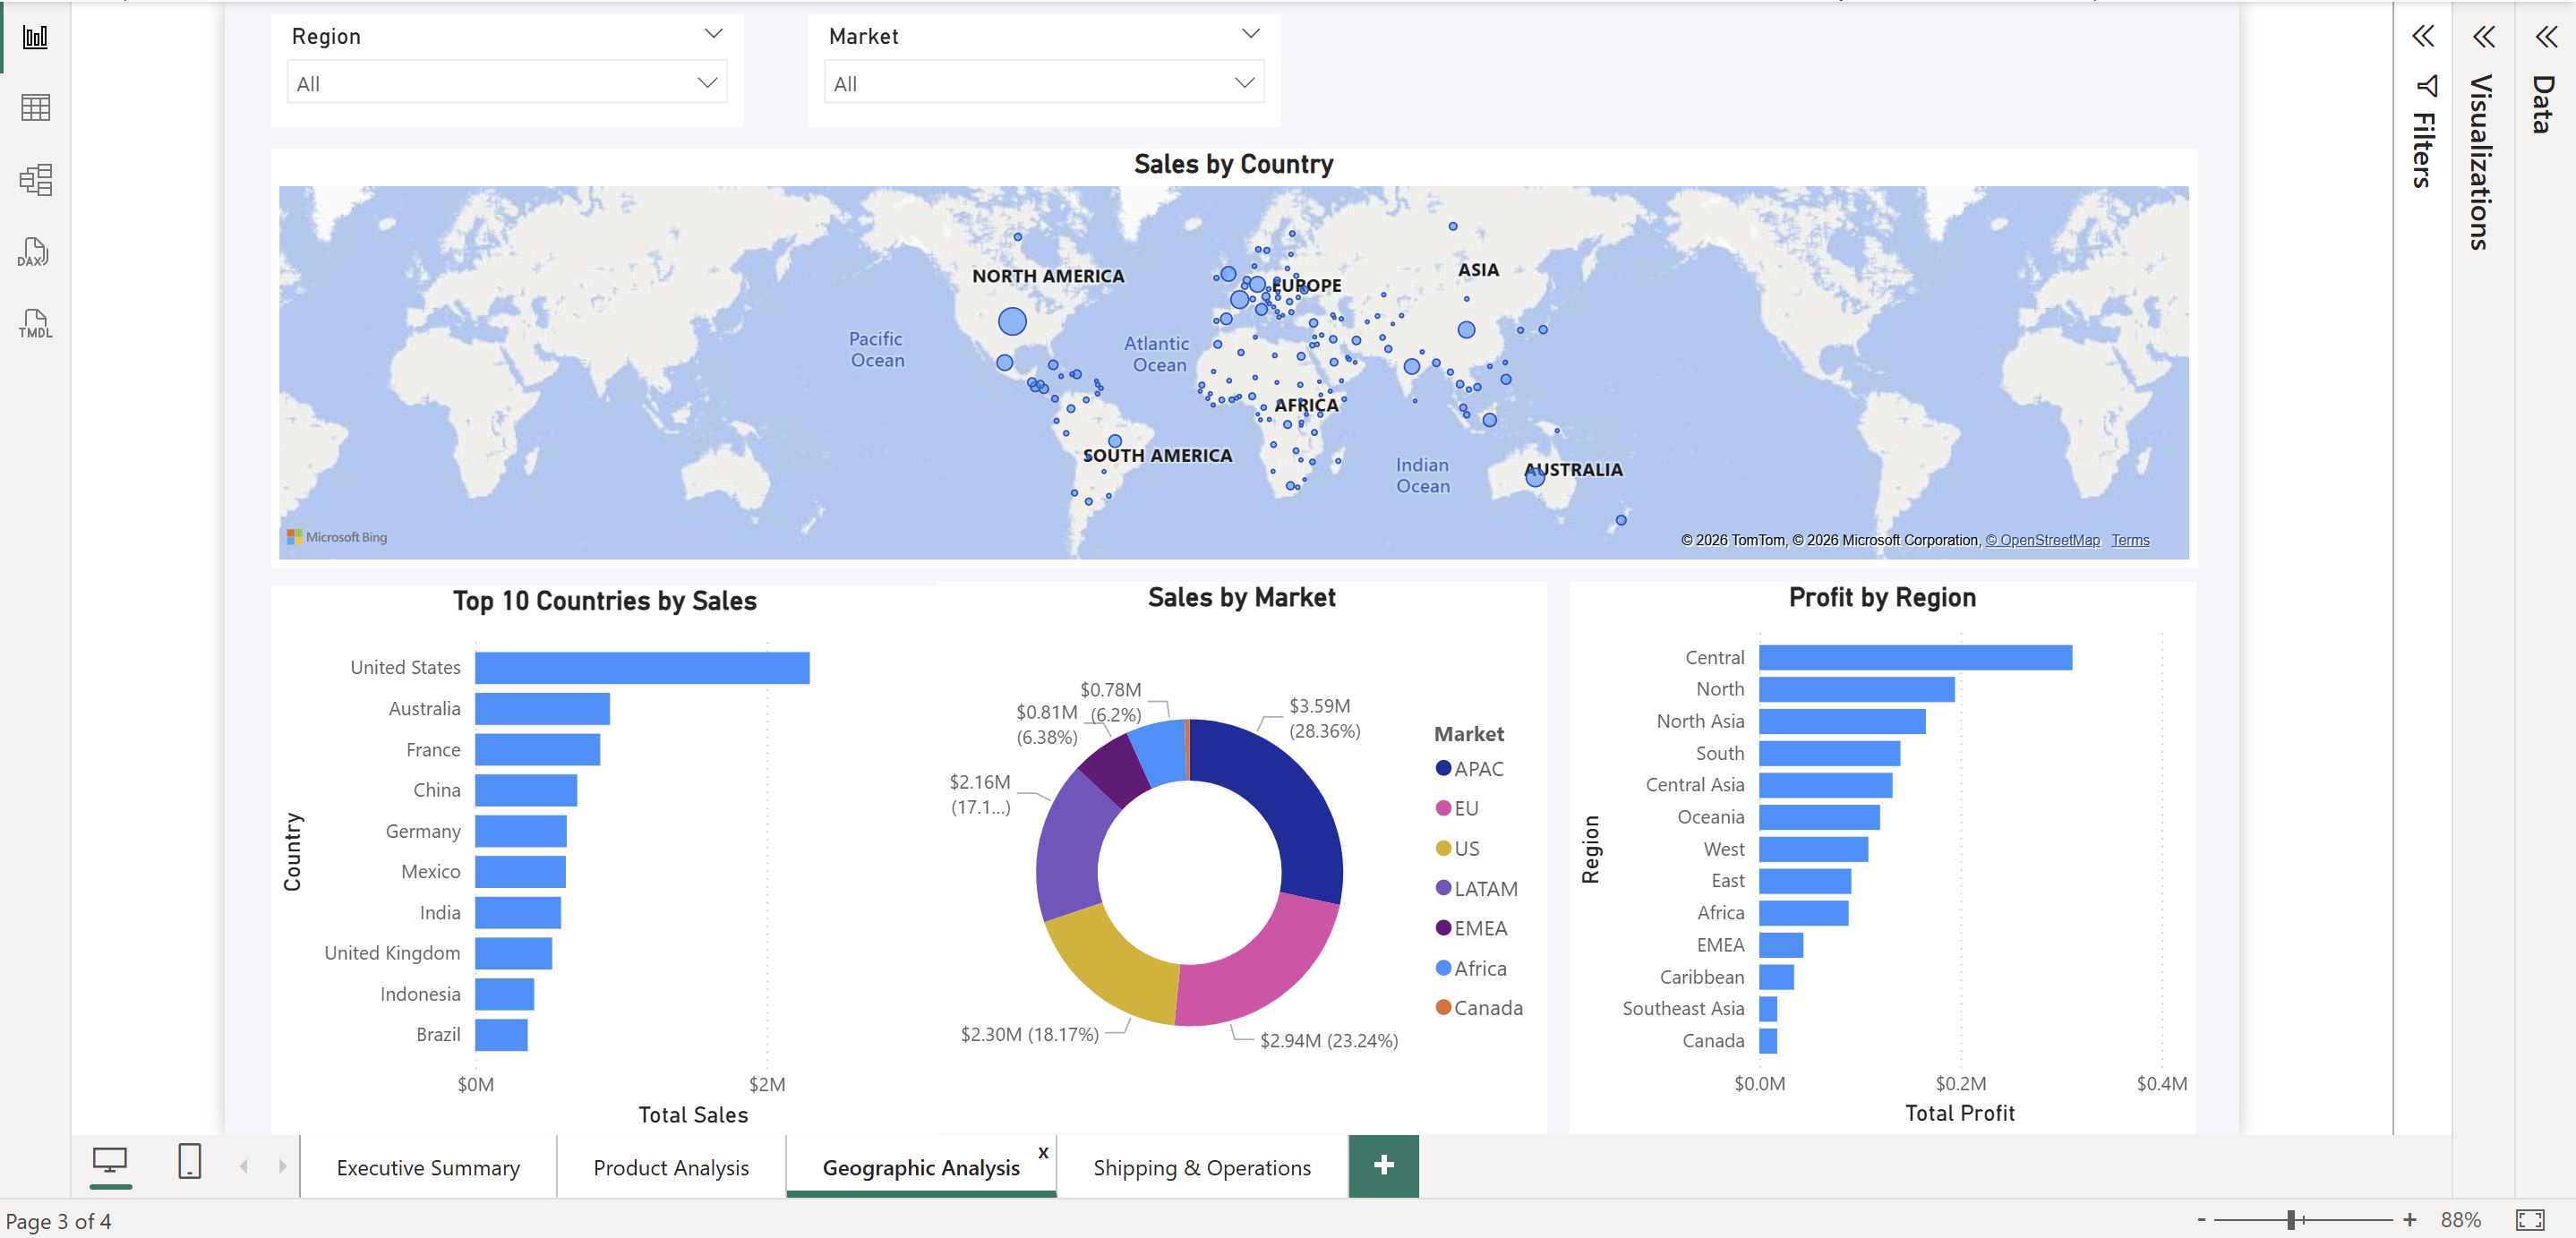

The page's visual inventory and layout, read from the dashboard file:
{"tool":"powerbi","page":{"name":"Geographic Analysis","canvas":[1280,720],"ordinal":2},"visuals":[{"type":"map","title":"Sales by Country","fields":{"Category":["Orders.Country"],"Size":["_Measures.Total Sales"]},"box":[29.1,93.4,1223.3,266.4],"z":0},{"type":"clusteredBarChart","title":"Top 10 Countries by Sales","fields":{"Category":["Orders.Country"],"Y":["_Measures.Total Sales"]},"box":[29.1,370.5,424.1,349.1],"z":1},{"type":"clusteredBarChart","title":" Profit by Region","fields":{"Category":["Orders.Region"],"Y":["_Measures.Total Profit"]},"box":[854.4,369,398.1,350.6],"z":2},{"type":"donutChart","title":"Sales by Market","fields":{"Category":["Orders.Market"],"Y":["_Measures.Total Sales"]},"box":[453.2,369,387.4,350.6],"z":3},{"type":"slicer","fields":{"Values":["Orders.Region"]},"box":[29.1,7.7,300.1,72],"z":4},{"type":"slicer","fields":{"Values":["Orders.Market"]},"box":[370.5,7.7,300.1,72],"z":5}]}

Visuals, with their boxes on the page's 1280x720 design canvas (x1, y1, x2, y2). These are canvas units, not pixel positions in the 2576x1238 screenshot, which may show the page scaled, cropped or inside an application window:
"Sales by Country" map: <bbox>29, 93, 1252, 360</bbox>
"Top 10 Countries by Sales" clusteredBarChart: <bbox>29, 370, 453, 720</bbox>
" Profit by Region" clusteredBarChart: <bbox>854, 369, 1252, 720</bbox>
"Sales by Market" donutChart: <bbox>453, 369, 841, 720</bbox>
slicer - Orders.Region: <bbox>29, 8, 329, 80</bbox>
slicer - Orders.Market: <bbox>370, 8, 671, 80</bbox>
